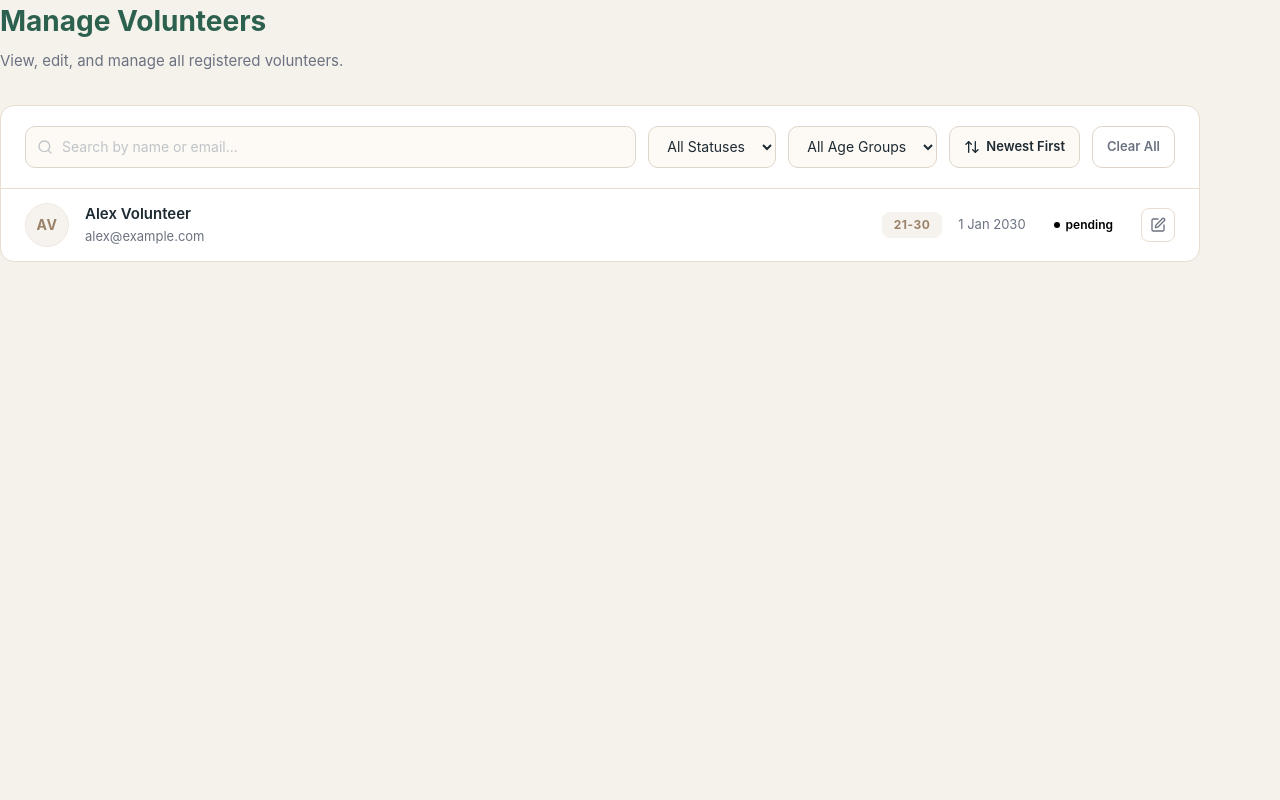
Test: Admin management UI › prevents repeated review actions after the reviewed modal closes
Click the button titled "Manage volunteer".
click(1158, 224)  # box [1141, 208, 1175, 242]
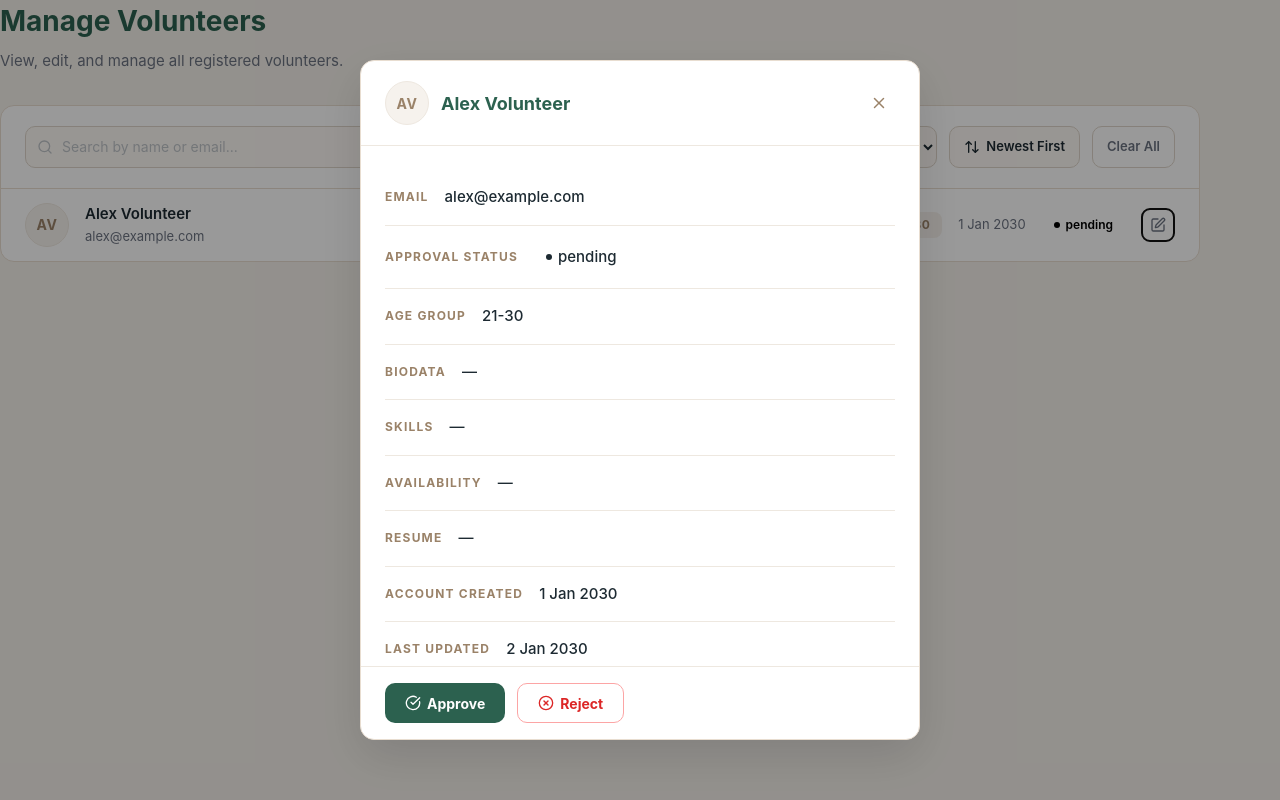
Click the button "Reject".
click(571, 703)  # box [517, 683, 624, 723]
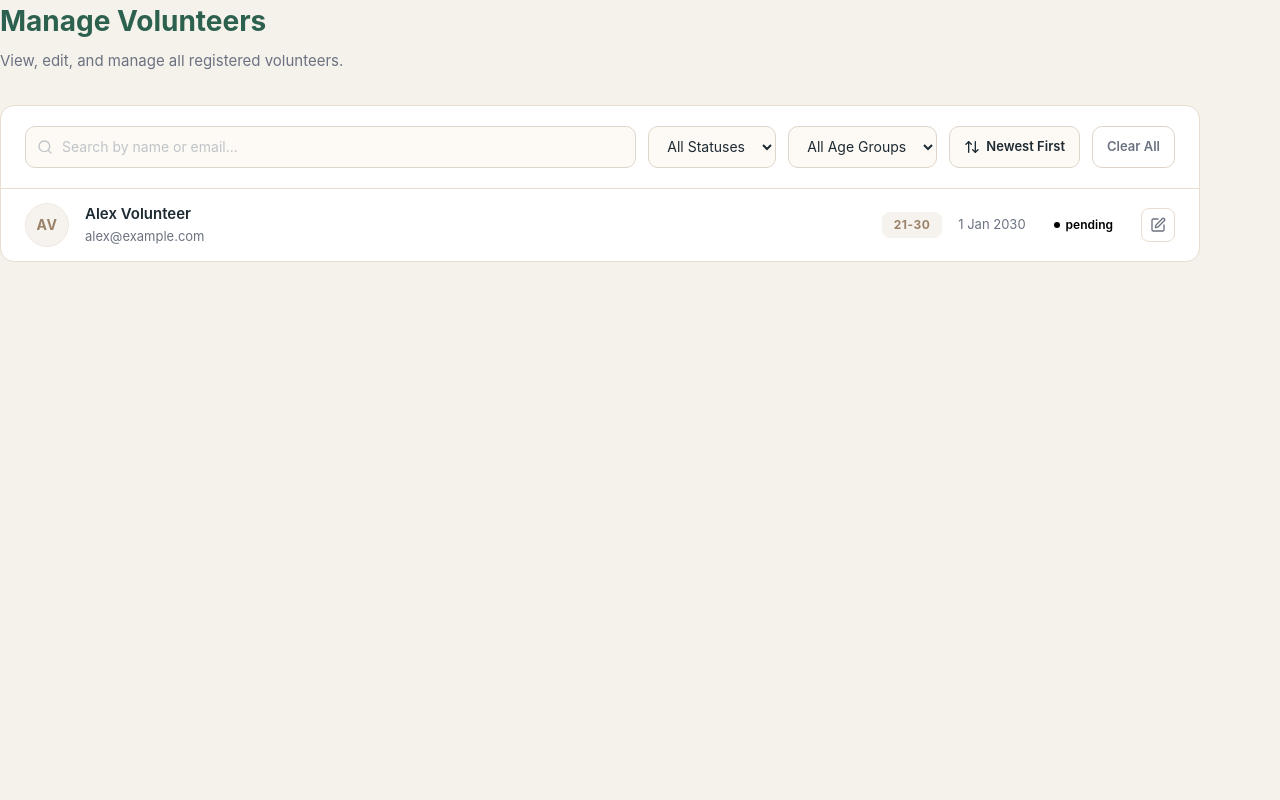
Check: the button "Reject" is gone
